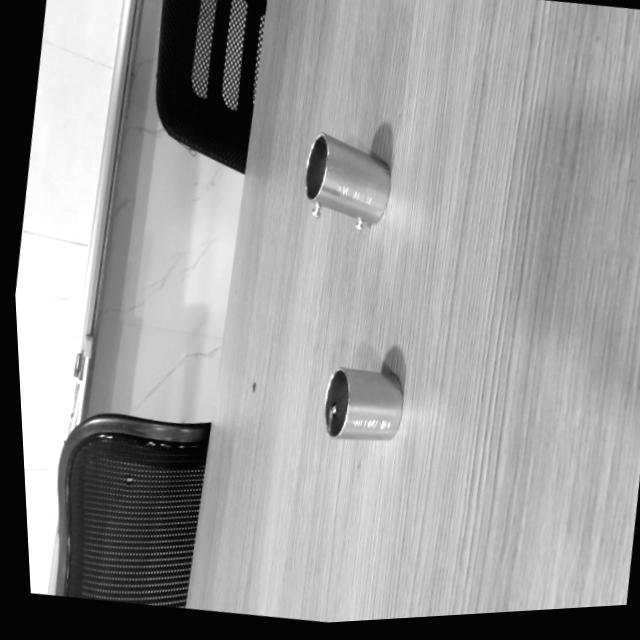Co_Lon: (291, 131, 401, 239)
Co_Nho: (323, 366, 405, 442)
